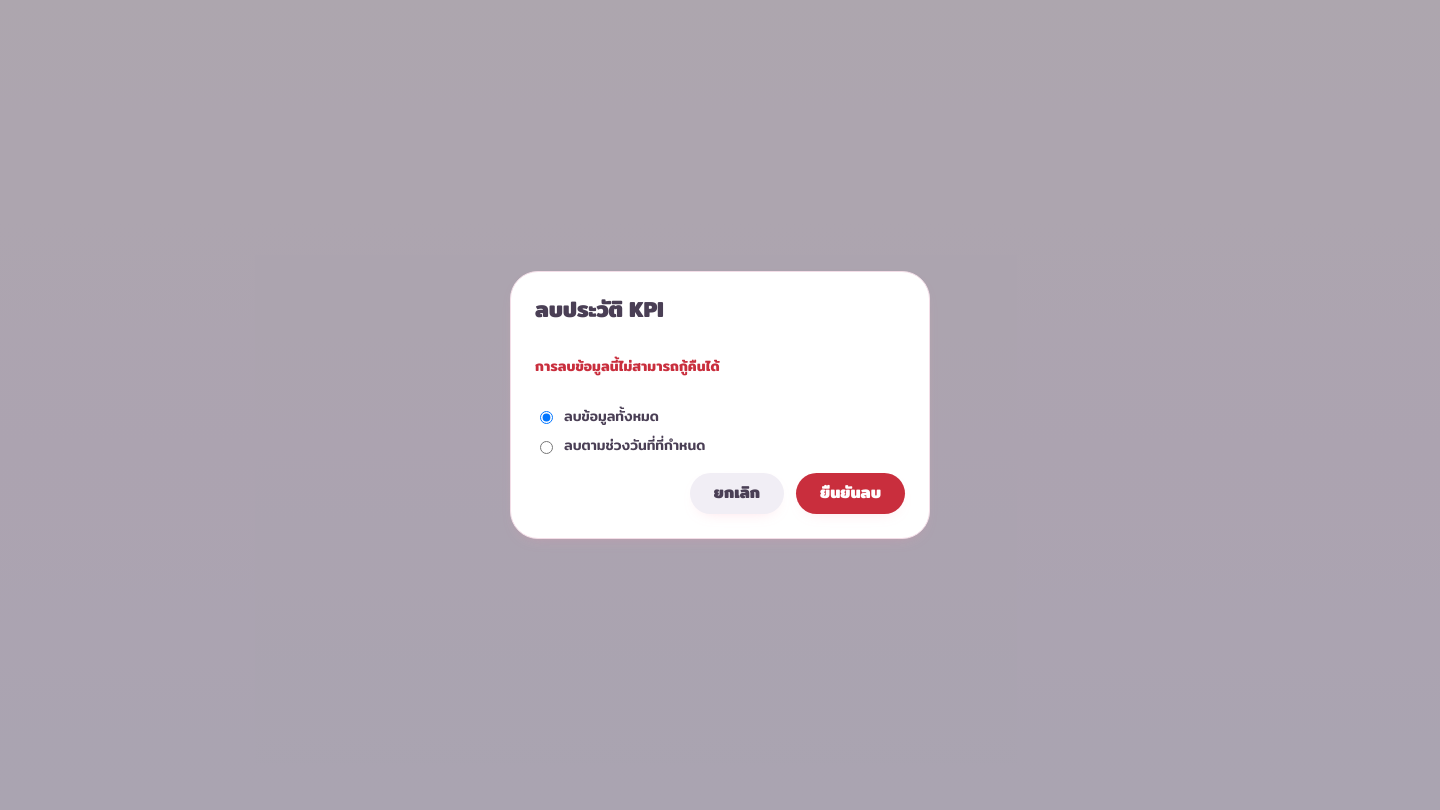
Test case: DeleteHistoryModal › shows a validation error and does not confirm when the end date is before the start date
Click the radio button labelled "ลบตามช่วงวันที่ที่กำหนด": (546, 448) [540,441,553,454]
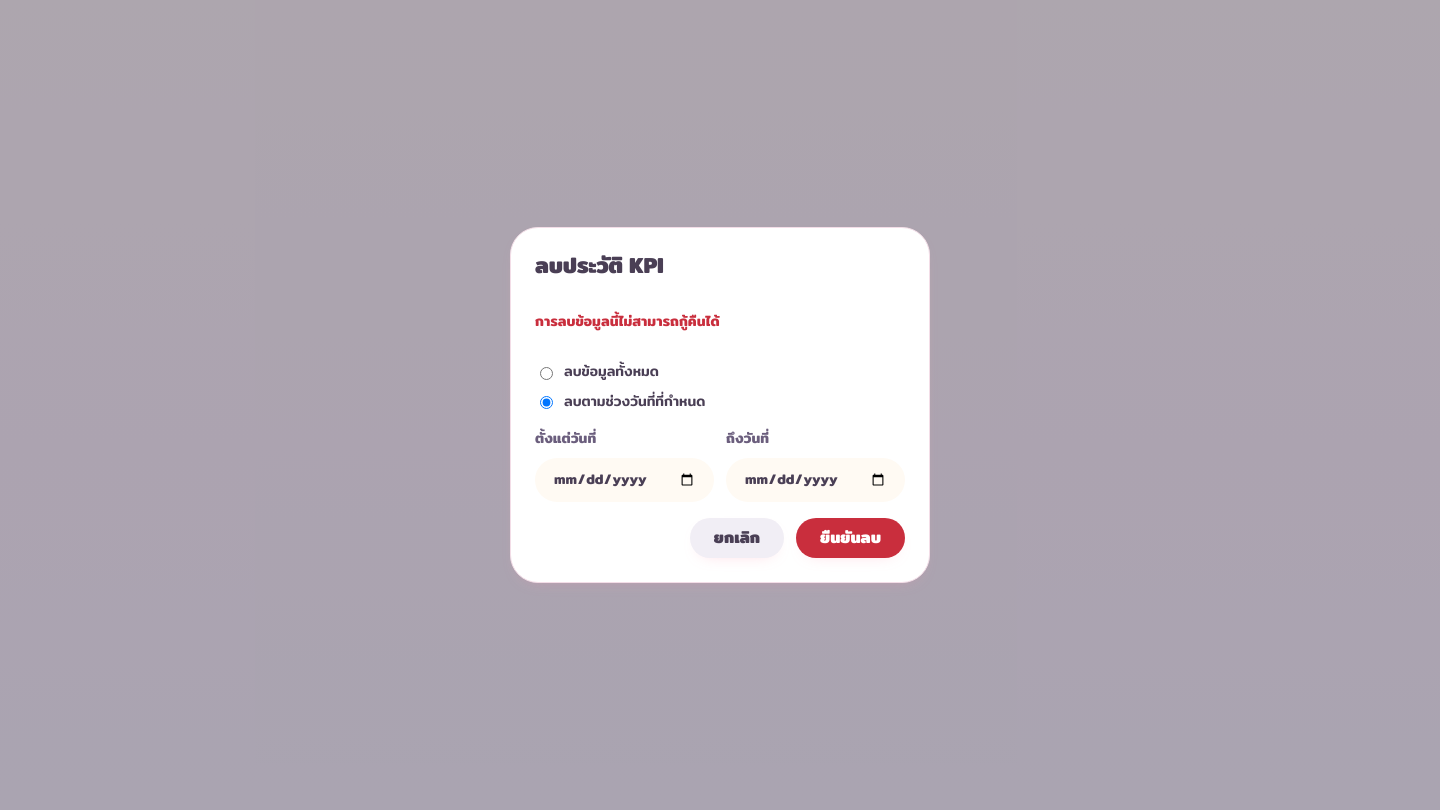
In the date field labelled "ตั้งแต่วันที่": (624, 480) [535,458,714,502], type "2026-09-03"
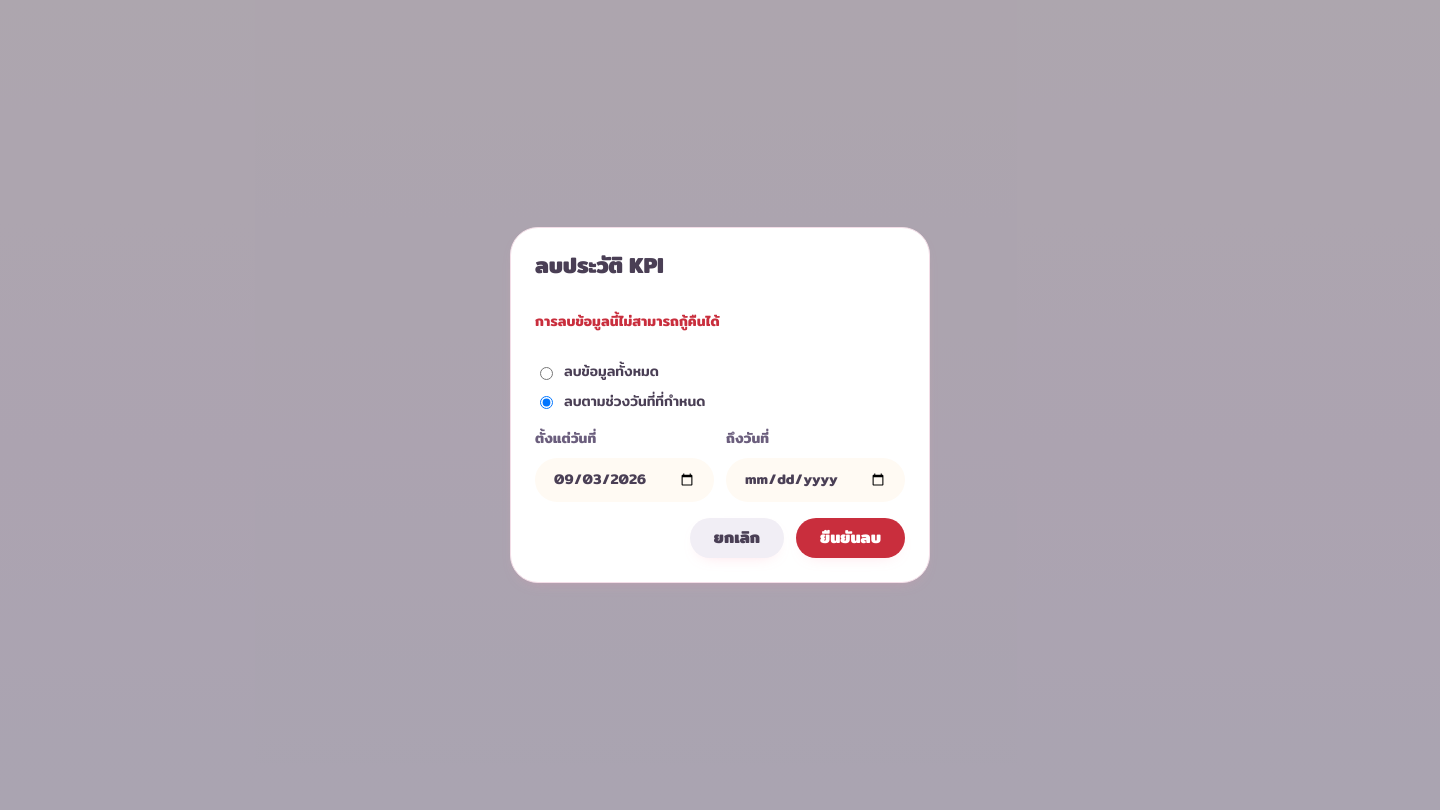
In the date field labelled "ถึงวันที่": (816, 480) [726,458,905,502], type "2026-09-01"
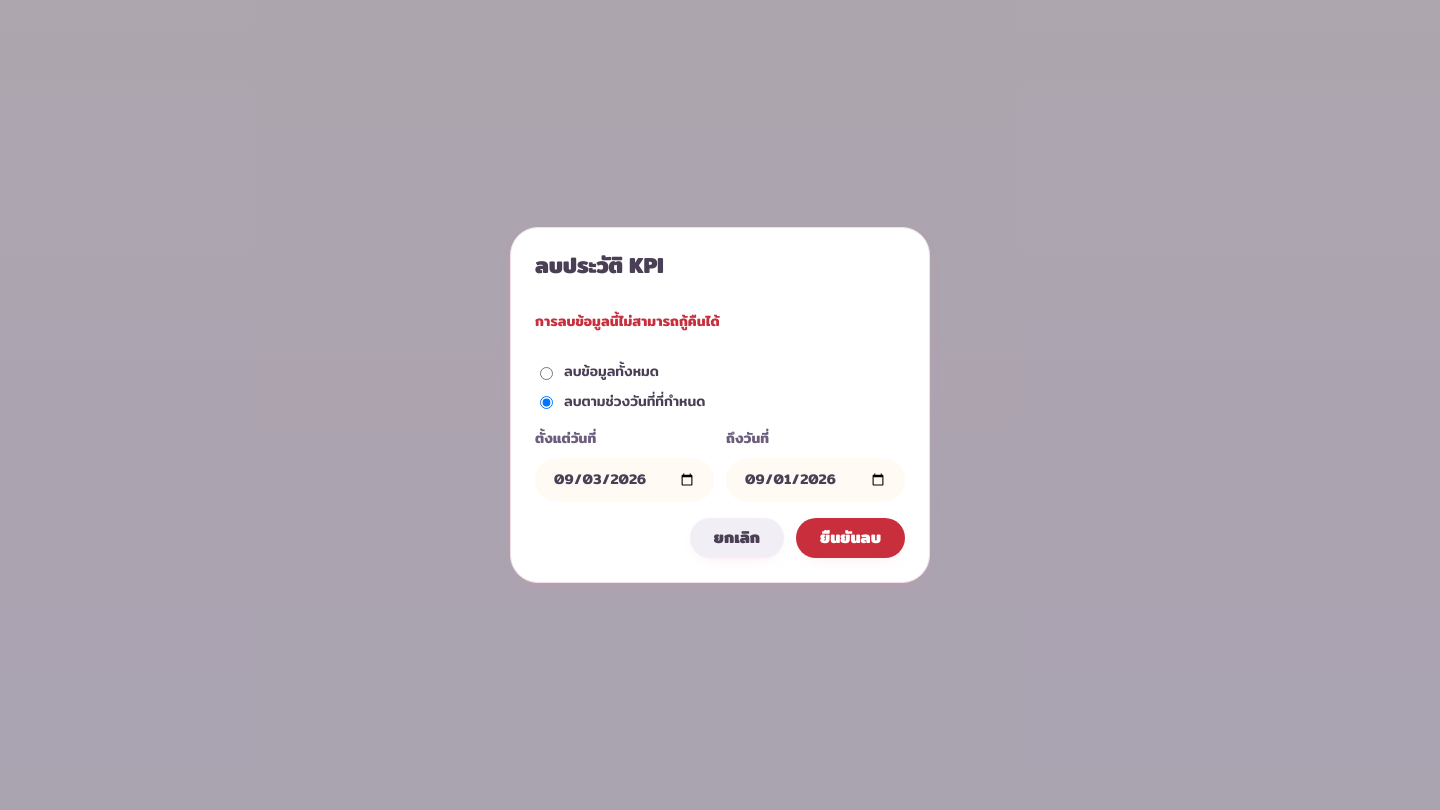
Click the button "ยืนยันลบ": (850, 538) [796,518,905,558]
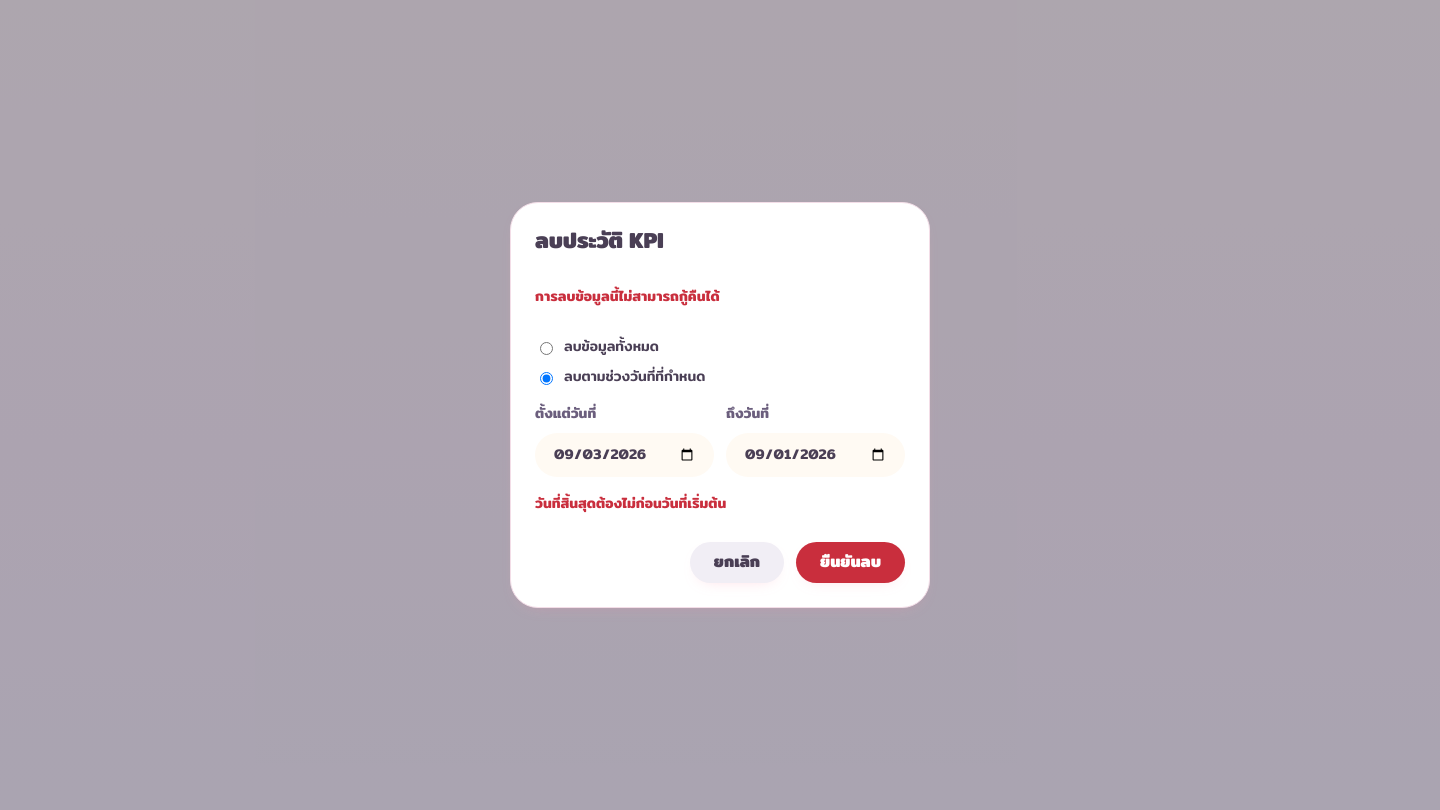
Now the message "วันที่สิ้นสุดต้องไม่ก่อนวันที่เริ่มต้น" is shown, box [535,492,726,514]
